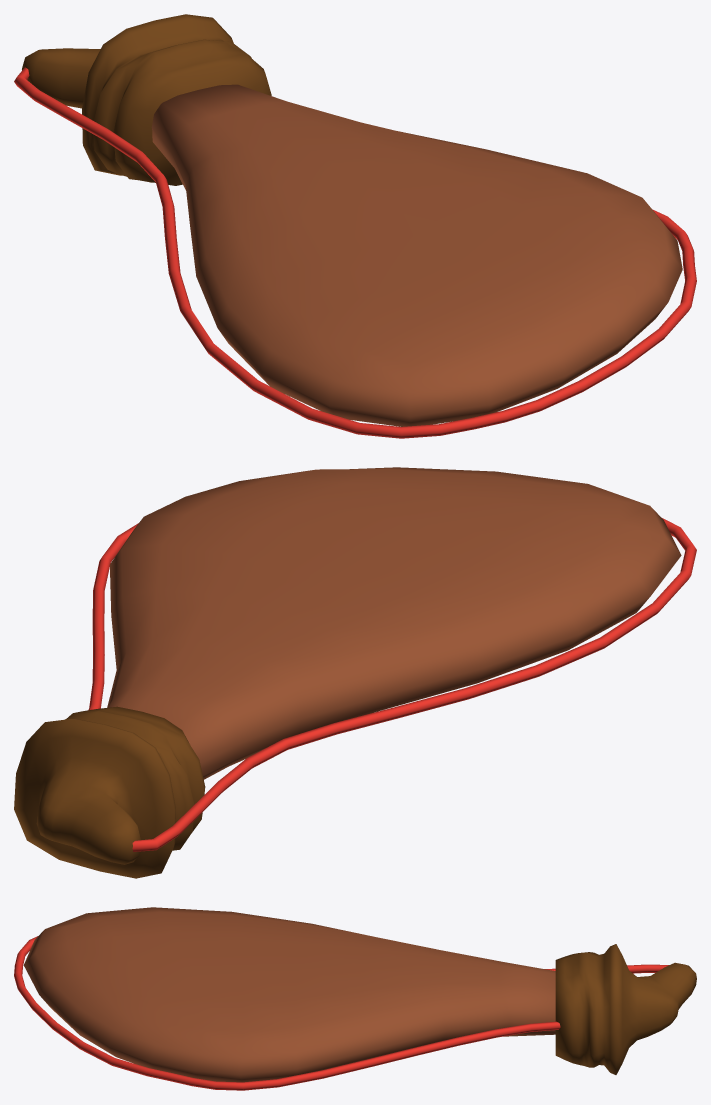
File: Odre.fbx
3 views of the same model, one above another, from view 1: azimuth 30°, elevation 25°; view 2: azimuth 150°, elevation 25°; view 3: azimuth 270°, elevation 25° (orthographic). The views are drawn at different scales.
Parts seen in each view (by area): view 1: Cube, BézierCurve; view 2: Cube, BézierCurve; view 3: Cube, BézierCurve.
Boxes of the visible parts, bbox=[...] form: Cube: bbox=[22, 14, 682, 426]; BézierCurve: bbox=[14, 67, 696, 438]; Cube: bbox=[14, 467, 681, 878]; BézierCurve: bbox=[88, 518, 696, 851]; Cube: bbox=[23, 907, 696, 1082]; BézierCurve: bbox=[14, 936, 669, 1090].
Bounding box in the file's own units: 47.29 × 13.85 × 81.64.
